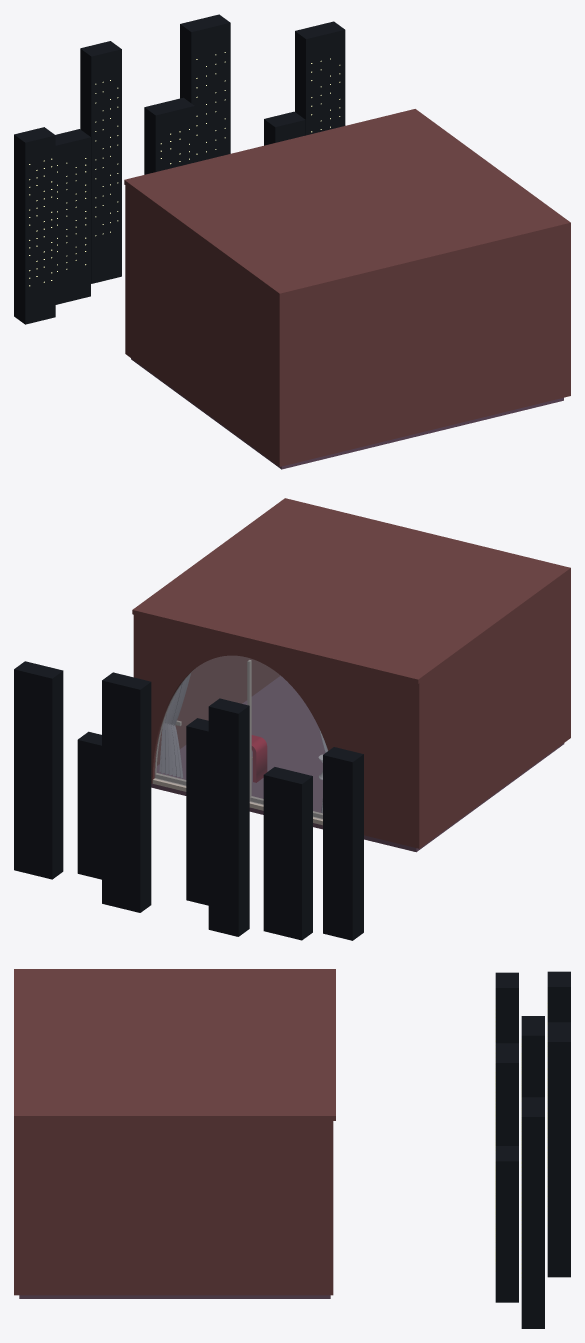
3 renders of one model, top to bottom at view 1: azimuth 30°, elevation 25°; view 2: azimuth 150°, elevation 25°; view 3: azimuth 270°, elevation 25°, orthographic. The views are drawn at different scales.
Visible parts, largest first — view 1: WALL_front_inferred, CEILING_inferred, WALL_left_inferred, CONTEXT_city_mass_2, CONTEXT_city_mass_0, CONTEXT_city_mass_4, CONTEXT_city_mass_1, CONTEXT_city_mass_6, CONTEXT_city_mass_3, FLOOR_bounded, CONTEXT_city_mass_5; view 2: CEILING_inferred, WALL_left_inferred, WINDOW_glazing, CONTEXT_city_mass_4, WALL_rear_left, CONTEXT_city_mass_6, CONTEXT_city_mass_2, CONTEXT_city_mass_1, CONTEXT_city_mass_0, FLOOR_bounded, CONTEXT_city_mass_3, WALL_right_inferred (+4 smaller); view 3: WALL_right_inferred, CEILING_inferred, CONTEXT_city_mass_4, CONTEXT_city_mass_6, CONTEXT_city_mass_5, CONTEXT_city_mass_3, CONTEXT_city_mass_1, CONTEXT_city_mass_0, FLOOR_bounded, CONTEXT_city_mass_2, WALL_front_inferred, WALL_rear_right.
Part boxes in pixels (x1,y1,x2,y2): WALL_front_inferred: (277, 227, 570, 466); CEILING_inferred: (124, 109, 570, 297); WALL_left_inferred: (126, 187, 277, 464); CONTEXT_city_mass_2: (80, 41, 121, 283); CONTEXT_city_mass_0: (14, 127, 55, 324); CONTEXT_city_mass_4: (180, 14, 230, 162); CONTEXT_city_mass_1: (55, 129, 90, 304); CONTEXT_city_mass_6: (295, 21, 345, 135); CONTEXT_city_mass_3: (144, 97, 194, 174); FLOOR_bounded: (131, 358, 563, 469); CONTEXT_city_mass_5: (264, 111, 305, 145); CEILING_inferred: (132, 498, 570, 683); WALL_left_inferred: (421, 574, 568, 846); WINDOW_glazing: (154, 656, 327, 819); CONTEXT_city_mass_4: (102, 672, 151, 912); WALL_rear_left: (340, 665, 421, 848); CONTEXT_city_mass_6: (14, 661, 63, 879); CONTEXT_city_mass_2: (208, 698, 249, 936); CONTEXT_city_mass_1: (263, 767, 312, 940); CONTEXT_city_mass_0: (323, 747, 363, 940); FLOOR_bounded: (151, 676, 564, 852); CONTEXT_city_mass_3: (186, 718, 208, 905); WALL_right_inferred: (157, 655, 280, 765); WALL_right_inferred: (19, 1121, 330, 1295); CEILING_inferred: (14, 969, 335, 1120); CONTEXT_city_mass_4: (547, 1022, 570, 1277); CONTEXT_city_mass_6: (521, 1097, 544, 1328); CONTEXT_city_mass_5: (495, 1146, 518, 1302); CONTEXT_city_mass_3: (495, 1043, 518, 1145); CONTEXT_city_mass_1: (521, 1016, 544, 1097); CONTEXT_city_mass_0: (495, 972, 518, 1043); FLOOR_bounded: (19, 1295, 330, 1298); CONTEXT_city_mass_2: (547, 971, 570, 1022); WALL_front_inferred: (14, 1121, 19, 1295); WALL_rear_right: (328, 1121, 333, 1295).
Bounding box in the file's own units: 15.3 × 10 × 21.45.
